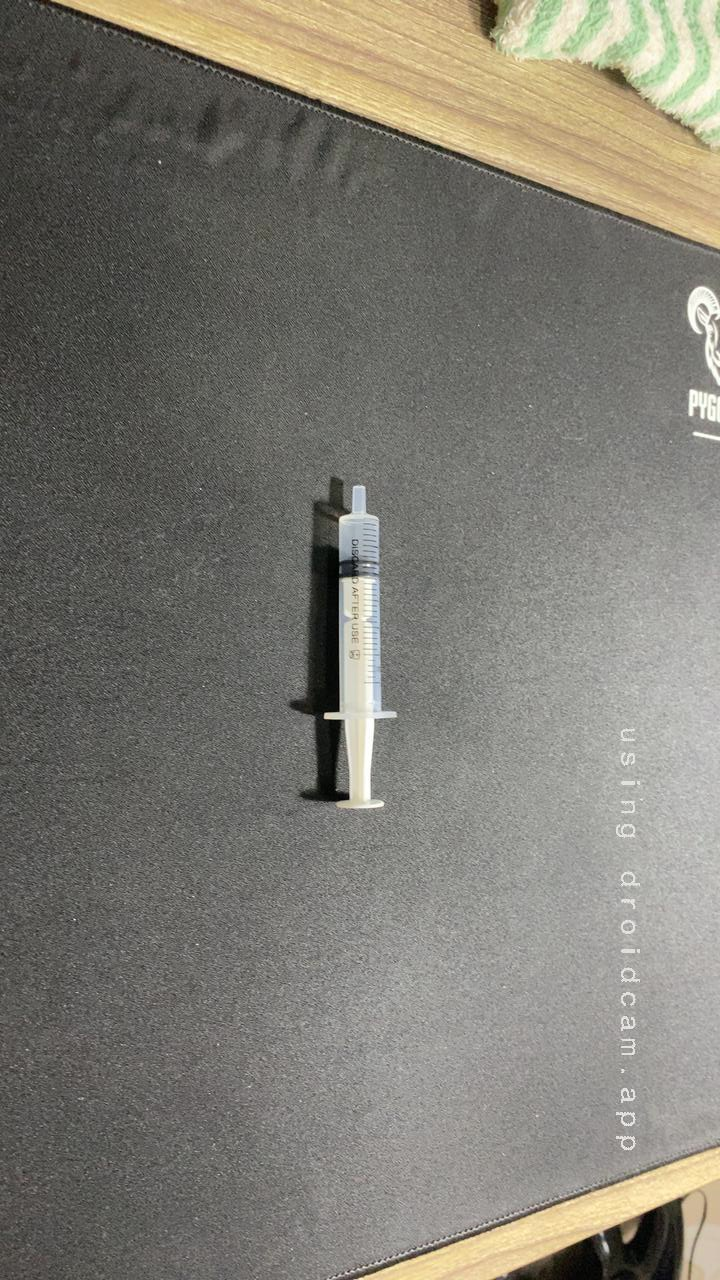syringe: (273, 464, 423, 821)
